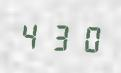four: (18, 17, 44, 52)
three: (46, 19, 72, 53)
zero: (73, 20, 99, 54)
